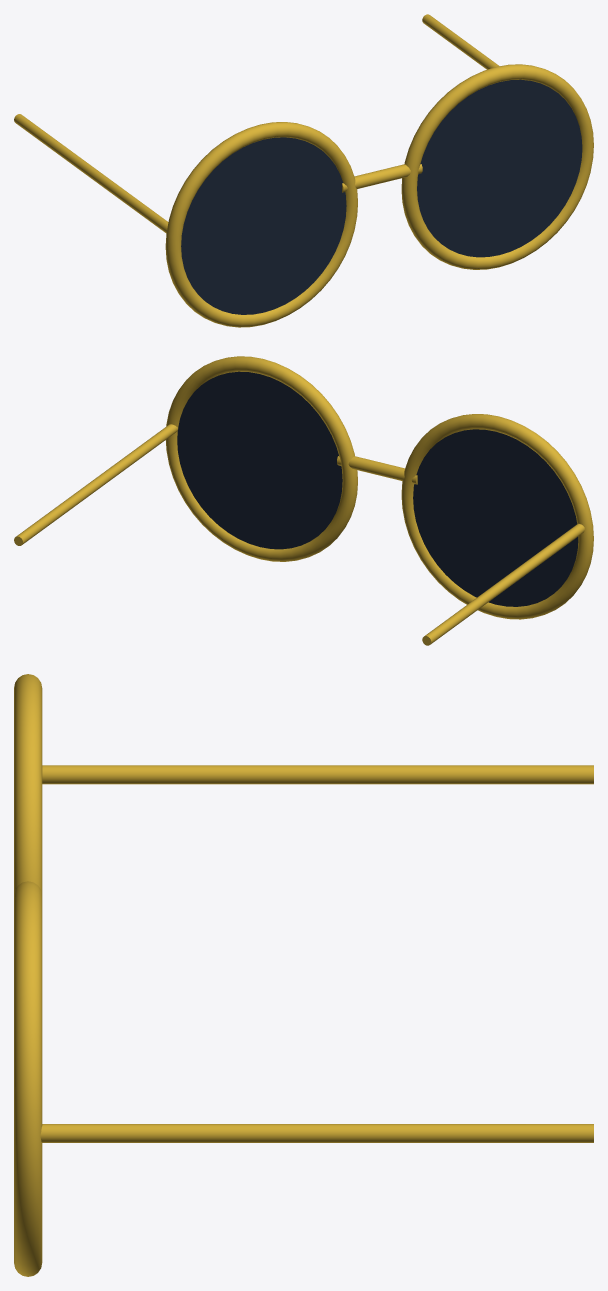
The model's file is glasses.glb.
3 views of the same model, one above another, from view 1: azimuth 30°, elevation 25°; view 2: azimuth 150°, elevation 25°; view 3: azimuth 270°, elevation 25° (orthographic). The views are drawn at different scales.
Bounding box in the file's own units: 1.88 × 0.84 × 1.23.
